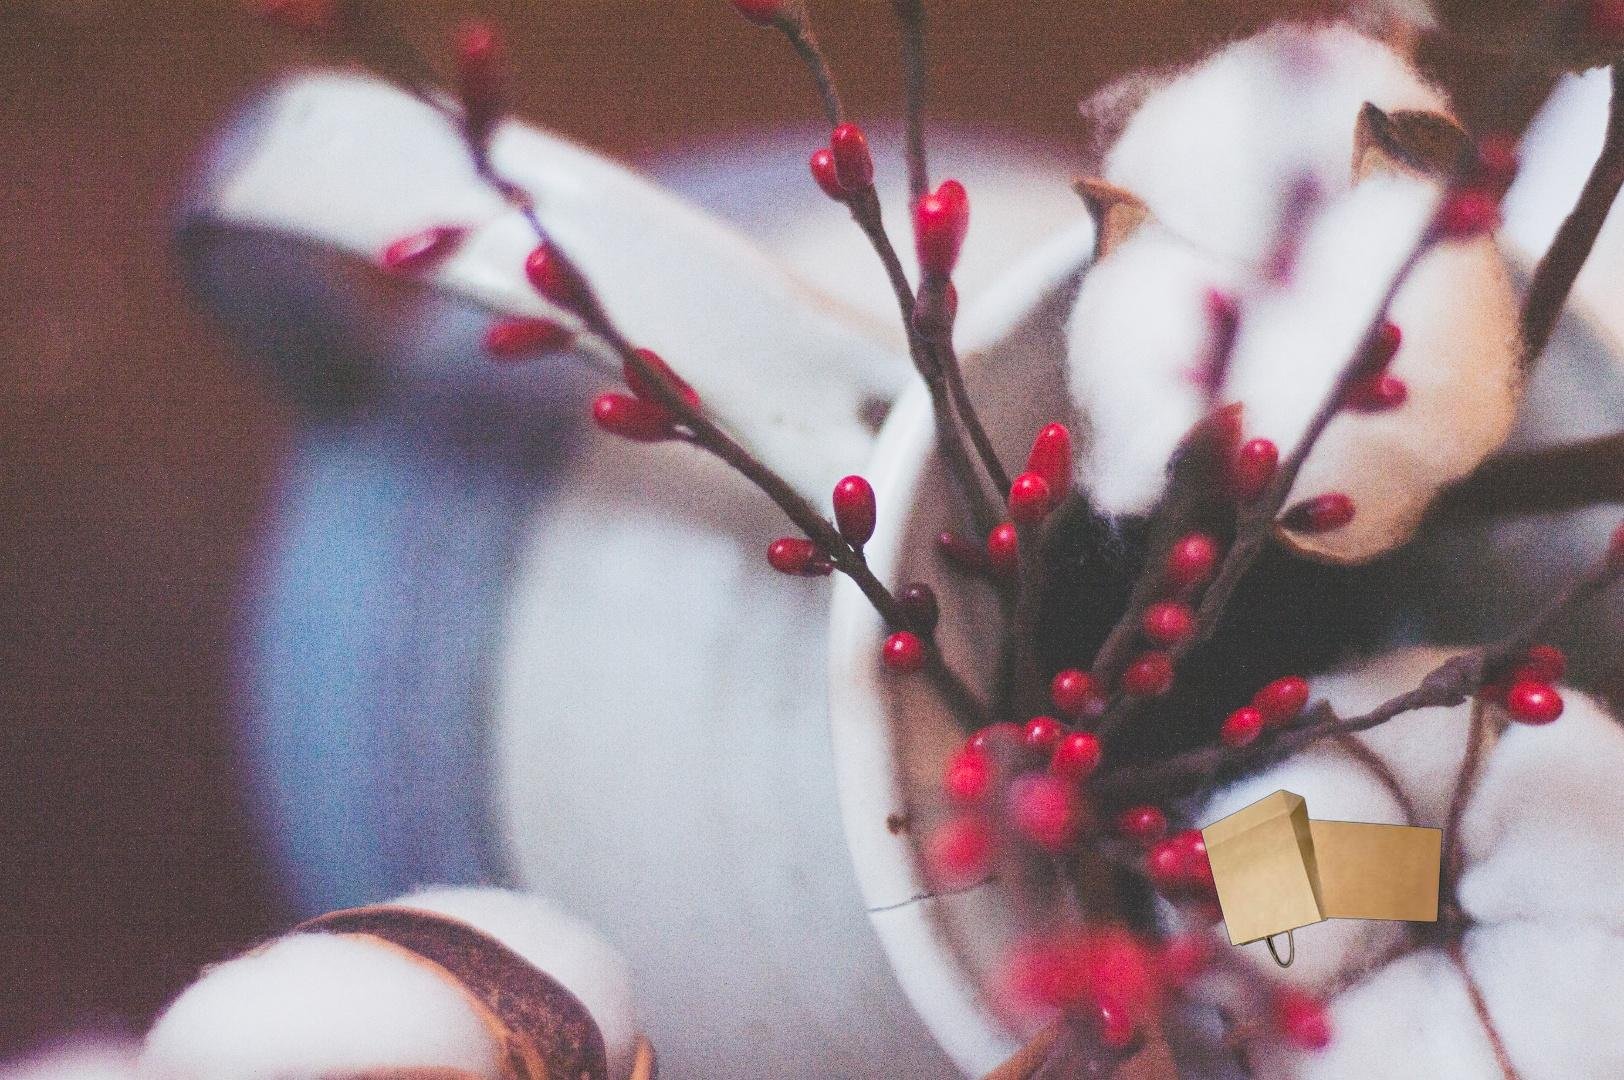paper-bag: (1198, 788, 1444, 969)
